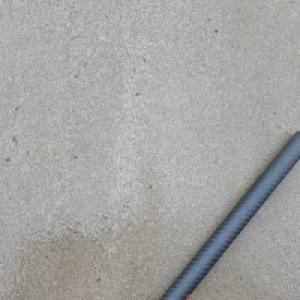LuggagePart: (152, 131, 299, 300)
